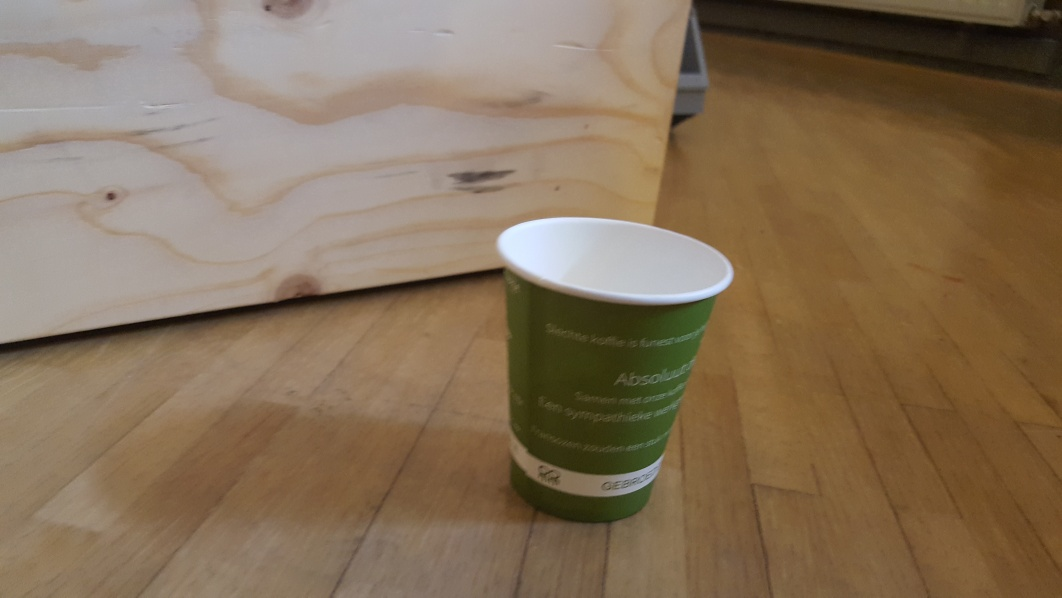cup: (496, 216, 734, 522)
tray: (674, 2, 710, 131)
